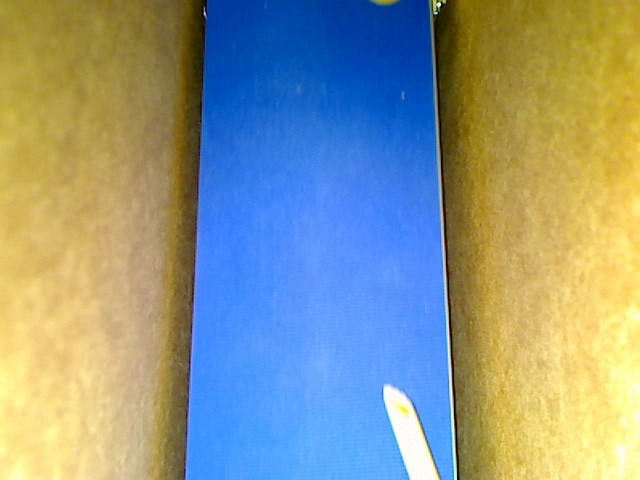penne: (382, 382, 443, 479)
